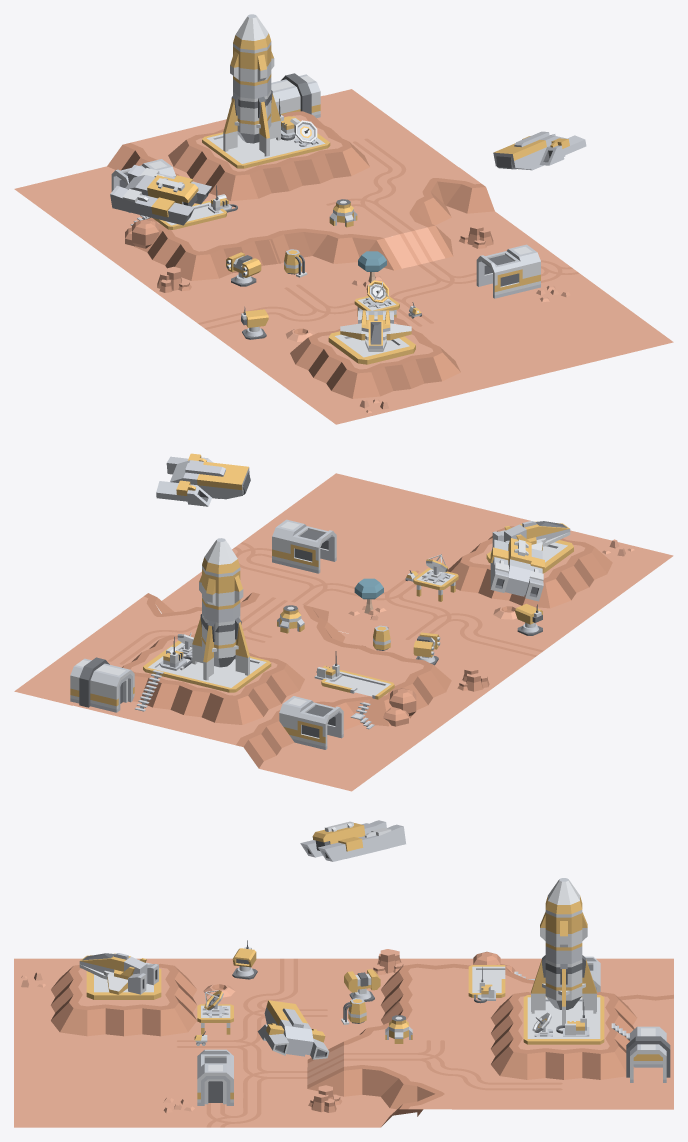
The model's file is mars .fbx.
3 renders of one model, top to bottom at view 1: azimuth 30°, elevation 25°; view 2: azimuth 150°, elevation 25°; view 3: azimuth 270°, elevation 25°, orthographic. The views are drawn at different scales.
Parts seen in each view (by area): view 1: sample, sample.013, sample.011, sample.008, sample.005, sample.012, sample.018, sample.016, sample.001, sample.009, sample.002, sample.003 (+2 smaller); view 2: sample, sample.013, sample.012, sample.011, sample.018, sample.005, sample.008, sample.016, sample.009, sample.001, sample.003, sample.002 (+2 smaller); view 3: sample, sample.013, sample.008, sample.011, sample.012, sample.005, sample.018, sample.016, sample.001, sample.002, sample.003, sample.010 (+4 smaller).
Boxes of the visible parts, x1,y1,x2,y2 form: sample: [14, 89, 673, 424]; sample.013: [202, 14, 330, 168]; sample.011: [110, 165, 211, 225]; sample.008: [328, 310, 415, 364]; sample.005: [476, 244, 540, 298]; sample.012: [493, 131, 586, 170]; sample.018: [271, 73, 320, 117]; sample.016: [153, 185, 237, 229]; sample.001: [354, 280, 399, 317]; sample.009: [352, 251, 414, 304]; sample.002: [226, 252, 261, 286]; sample.003: [241, 306, 268, 339]; sample: [14, 473, 673, 791]; sample.013: [143, 538, 271, 692]; sample.012: [156, 453, 250, 506]; sample.011: [490, 538, 544, 601]; sample.018: [70, 657, 134, 712]; sample.005: [272, 519, 336, 573]; sample.008: [486, 521, 573, 572]; sample.016: [314, 651, 394, 699]; sample.009: [348, 578, 411, 620]; sample.001: [413, 554, 458, 601]; sample.003: [515, 603, 542, 635]; sample.002: [413, 632, 440, 665]; sample: [14, 951, 673, 1127]; sample.013: [523, 878, 604, 1044]; sample.008: [79, 953, 161, 999]; sample.011: [300, 820, 405, 861]; sample.012: [257, 1000, 329, 1059]; sample.005: [197, 1049, 233, 1105]; sample.018: [626, 1026, 670, 1082]; sample.016: [468, 965, 505, 1003]; sample.001: [197, 990, 233, 1034]; sample.002: [344, 969, 380, 1001]; sample.003: [232, 940, 257, 979]; sample.010: [308, 1085, 342, 1112].
Bounding box in the file's own units: 1370 × 530 × 1800.
